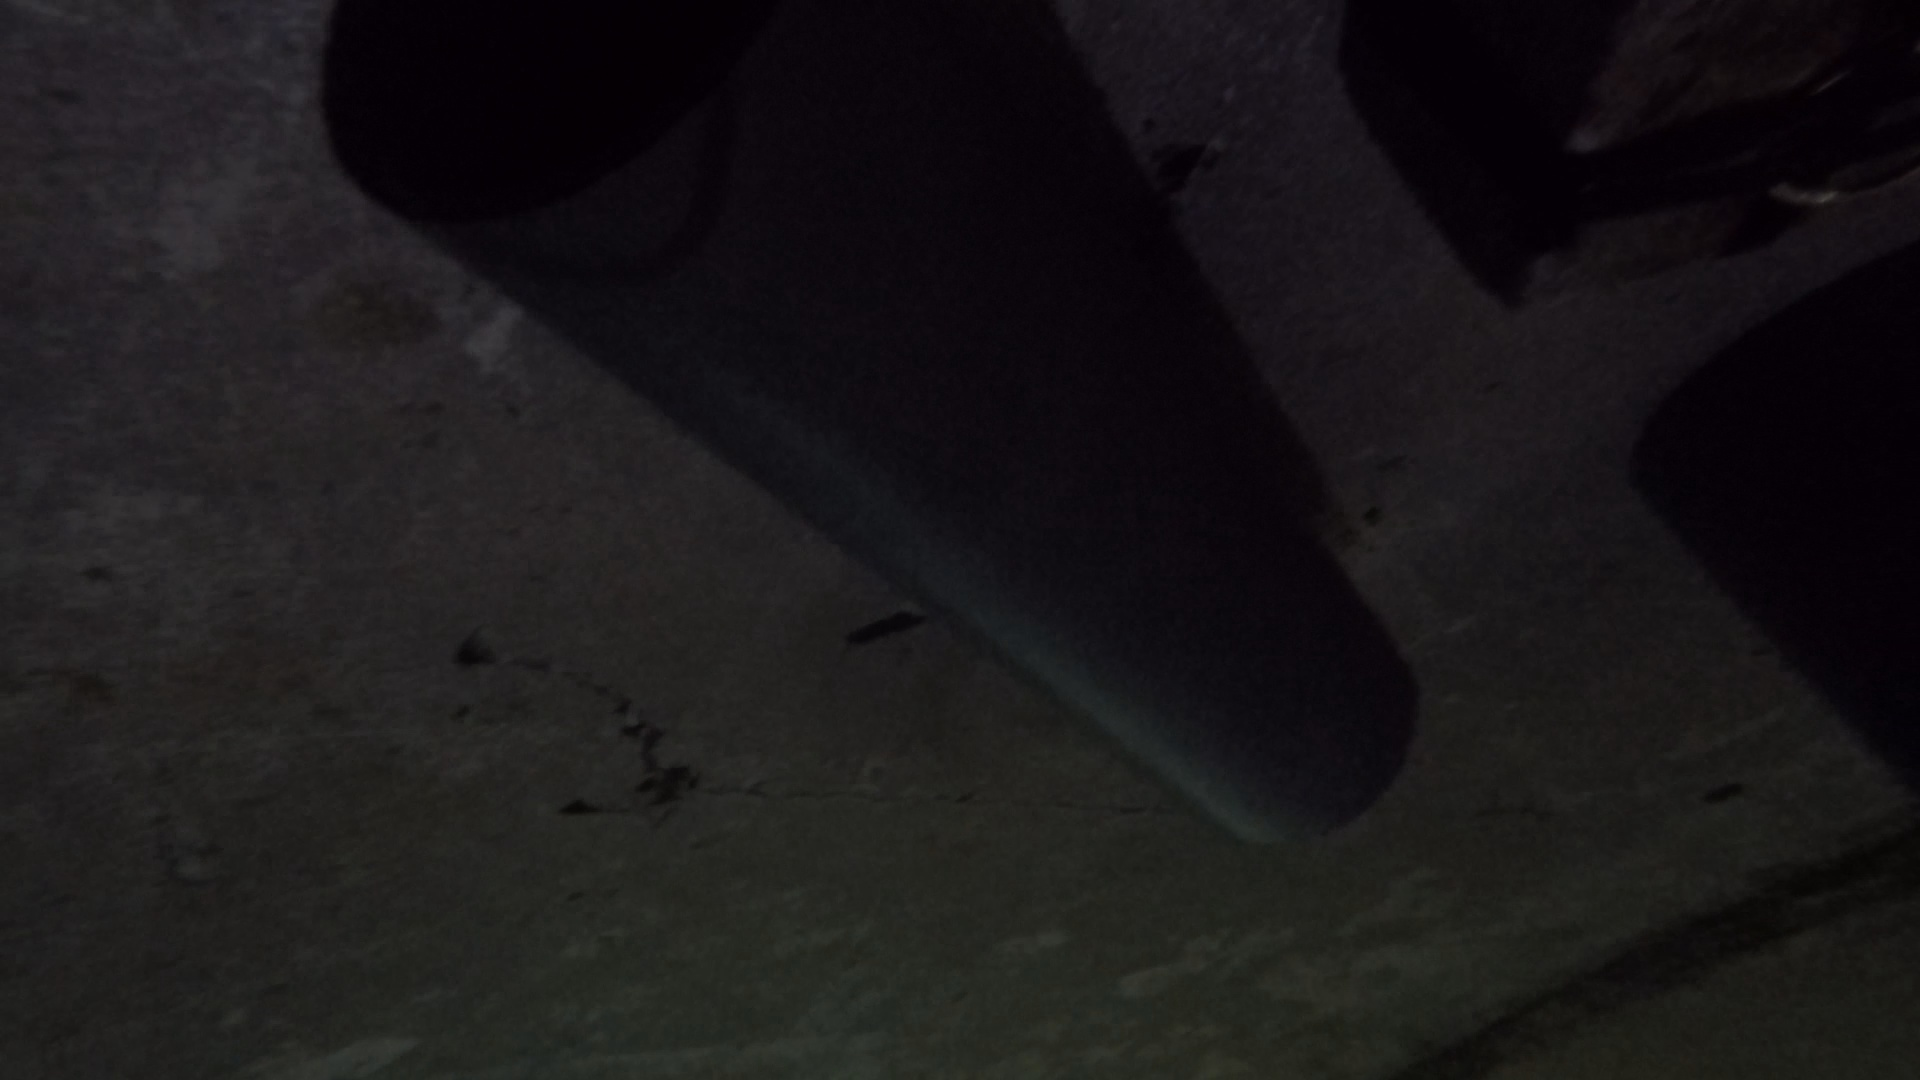led_block: (1340, 3, 1920, 309)
pipe: (320, 1, 1422, 848), (1629, 239, 1920, 802)
